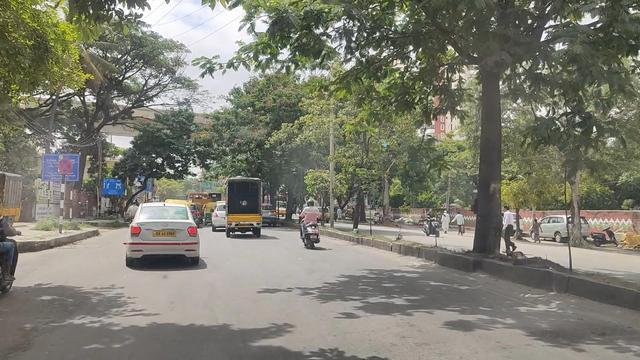HMV: (227, 173, 262, 235)
LMV: (132, 198, 201, 265), (297, 189, 325, 248)
